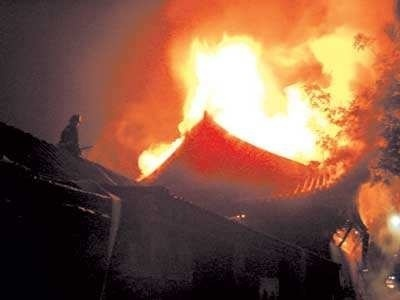fire: (156, 27, 396, 174)
